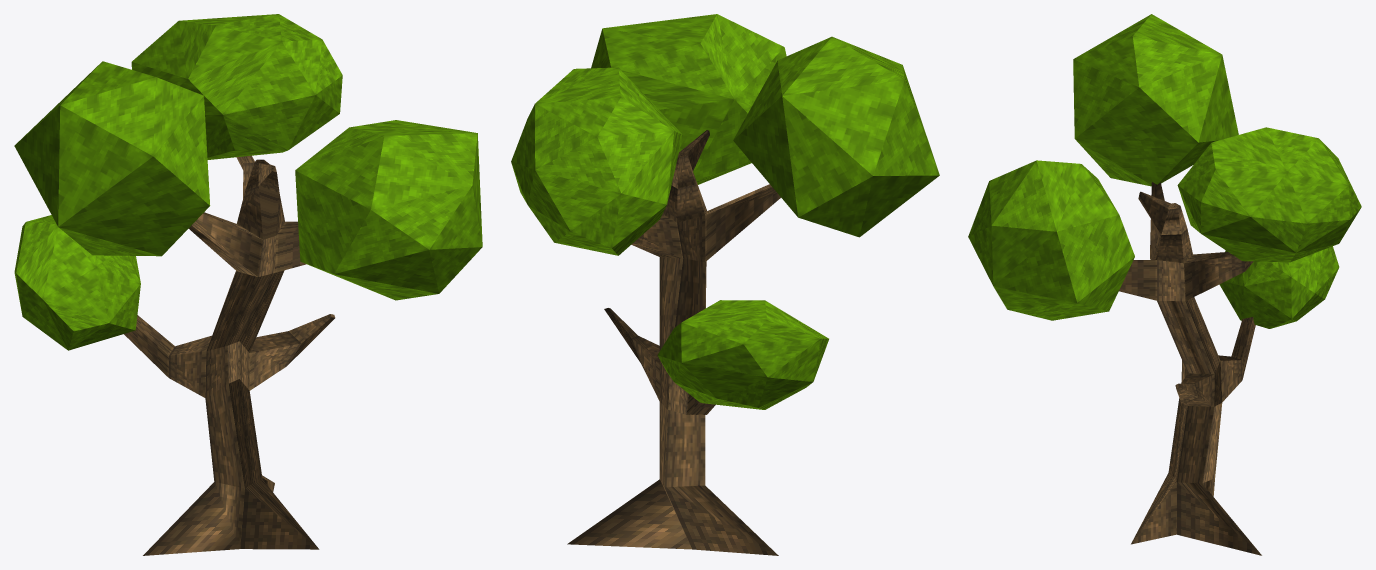
Rendered from Tree Base.fbx.
3 views of the same model, side by side, from view 1: azimuth 30°, elevation 25°; view 2: azimuth 150°, elevation 25°; view 3: azimuth 270°, elevation 25° (orthographic). The views are drawn at different scales.
Parts seen in each view (by area): view 1: TreeTrunk, Leaves2, Leaves1, Leaves3, Leaves3_1; view 2: Leaves1, TreeTrunk, Leaves3, Leaves2, Leaves3_1; view 3: TreeTrunk, Leaves1, Leaves2, Leaves3, Leaves3_1.
Part boxes in pixels (left/top/right/bottom): TreeTrunk: left=124, top=155, right=335, bottom=555; Leaves2: left=295, top=120, right=482, bottom=300; Leaves1: left=14, top=61, right=210, bottom=256; Leaves3: left=131, top=14, right=342, bottom=159; Leaves3_1: left=14, top=215, right=140, bottom=350; Leaves1: left=733, top=36, right=939, bottom=237; TreeTrunk: left=567, top=130, right=780, bottom=555; Leaves3: left=511, top=67, right=682, bottom=255; Leaves2: left=591, top=14, right=786, bottom=184; Leaves3_1: left=657, top=300, right=828, bottom=409; TreeTrunk: left=1119, top=182, right=1261, bottom=555; Leaves1: left=1073, top=14, right=1238, bottom=186; Leaves2: left=968, top=160, right=1134, bottom=320; Leaves3: left=1177, top=127, right=1361, bottom=262; Leaves3_1: left=1219, top=246, right=1339, bottom=328.
Size of the model in its own units: 31.64 by 39.55 by 31.86.
2 materials, 2 textured.
